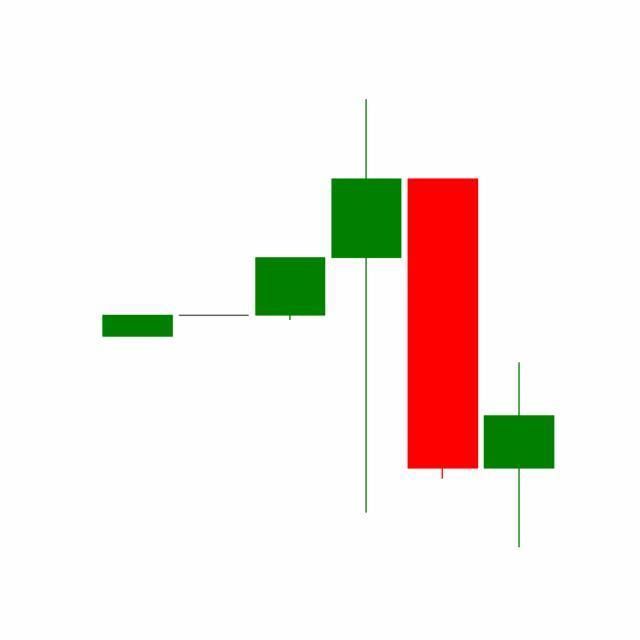Marubozu: (404, 175, 482, 483)
